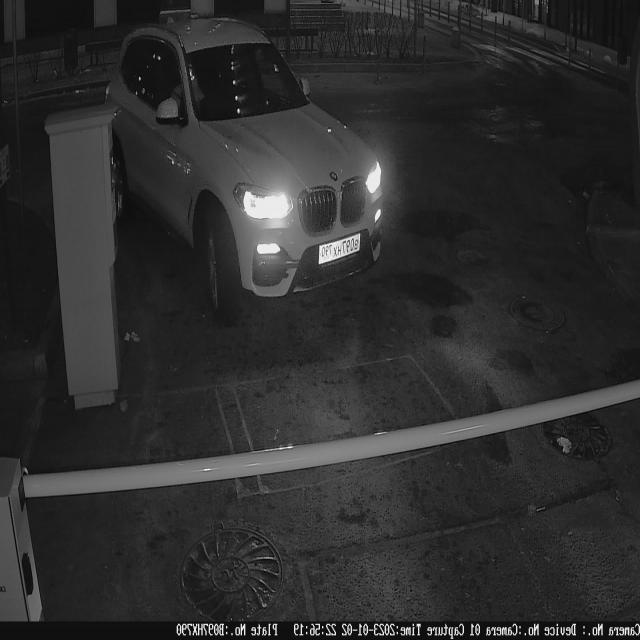car-plate-numbers: (316, 230, 364, 271)
